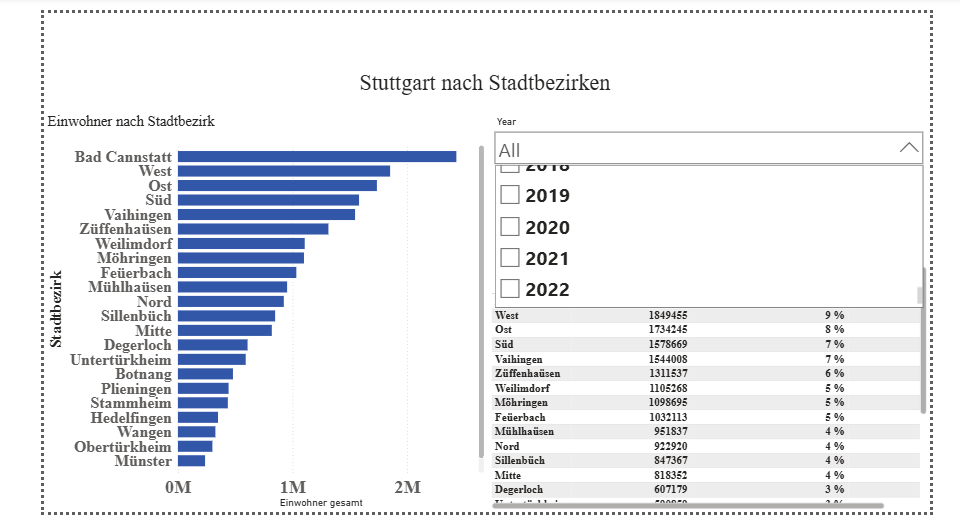

The page's visual inventory and layout, read from the dashboard file:
{"tool":"powerbi","page":{"name":"Stadtbezirke","canvas":[1280,720],"ordinal":1},"visuals":[{"type":"clusteredBarChart","title":"Einwohner nach Stadtbezirk","fields":{"Category":["DimStadtbezirk.Stadtbezirk"],"Y":["FactEinwohner.Einwohner gesamt"]},"box":[0,142.6,640.8,576.9],"z":0},{"type":"slicer","fields":{"Values":["DimJahr.Year"]},"box":[640.8,142.6,638.6,249.1],"z":1000},{"type":"tableEx","fields":{"Values":["DimStadtbezirk.Stadtbezirk","FactEinwohner.Einwohner gesamt","FactEinwohner.Anteil an Gesamtstadt %","FactEinwohner.Rang Stadtbezirk"]},"box":[641.7,362,638.6,359.8],"z":2000},{"type":"textbox","box":[321.4,76.6,640.8,66],"z":3000}]}

Visuals, with their boxes in screenshot pixels (x1, y1, x2, y2), scaled from the page's 1280x720 canvas onto the 960x527 screenshot:
"Einwohner nach Stadtbezirk" clusteredBarChart: (x1=0, y1=104, x2=481, y2=526)
slicer - DimJahr.Year: (x1=481, y1=104, x2=959, y2=287)
tableEx - DimStadtbezirk.Stadtbezirk x FactEinwohner.Einwohner gesamt: (x1=481, y1=265, x2=959, y2=526)
textbox: (x1=241, y1=56, x2=722, y2=104)
